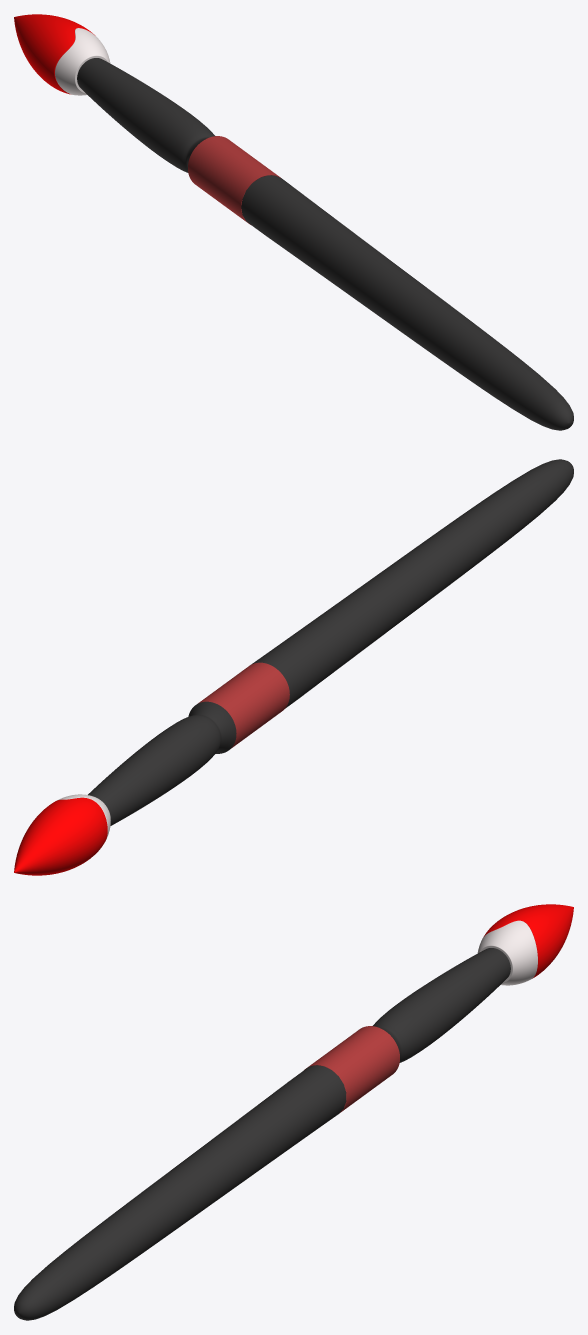
3 renders of one model, top to bottom at view 1: azimuth 30°, elevation 25°; view 2: azimuth 150°, elevation 25°; view 3: azimuth 330°, elevation 25°, orthographic.
Parts seen in each view (by area): view 1: Brush Body, Brush Head; view 2: Brush Body, Brush Head; view 3: Brush Body, Brush Head.
Boxes of the visible parts, x1,y1,x2,y2 form: Brush Body: (77, 58, 573, 430); Brush Head: (14, 14, 110, 95); Brush Body: (88, 459, 573, 825); Brush Head: (14, 794, 110, 875); Brush Body: (14, 948, 510, 1320); Brush Head: (477, 904, 573, 985).
Bounding box in the file's own units: 12 × 198 × 12.
